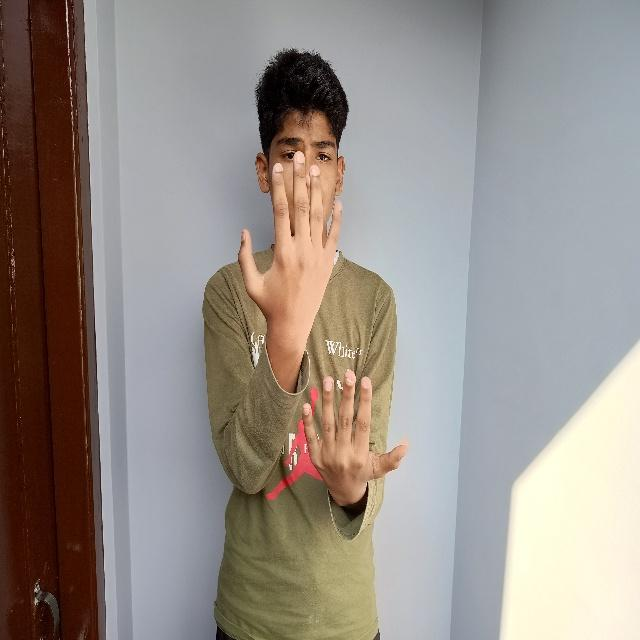Moutza: (242, 147, 353, 363)
